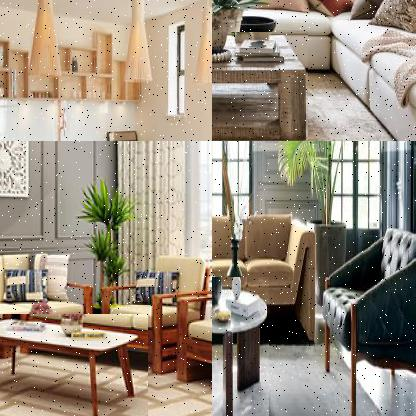table: (0, 313, 150, 415), (212, 32, 310, 140), (212, 277, 271, 415)
